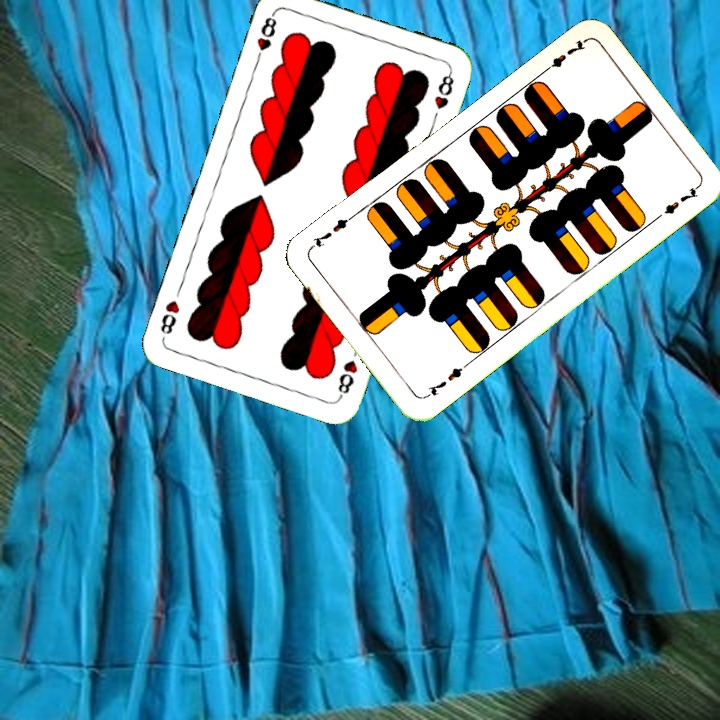E7: (420, 359, 471, 401), (537, 36, 588, 77)
H8: (251, 9, 279, 66), (333, 356, 360, 401)
